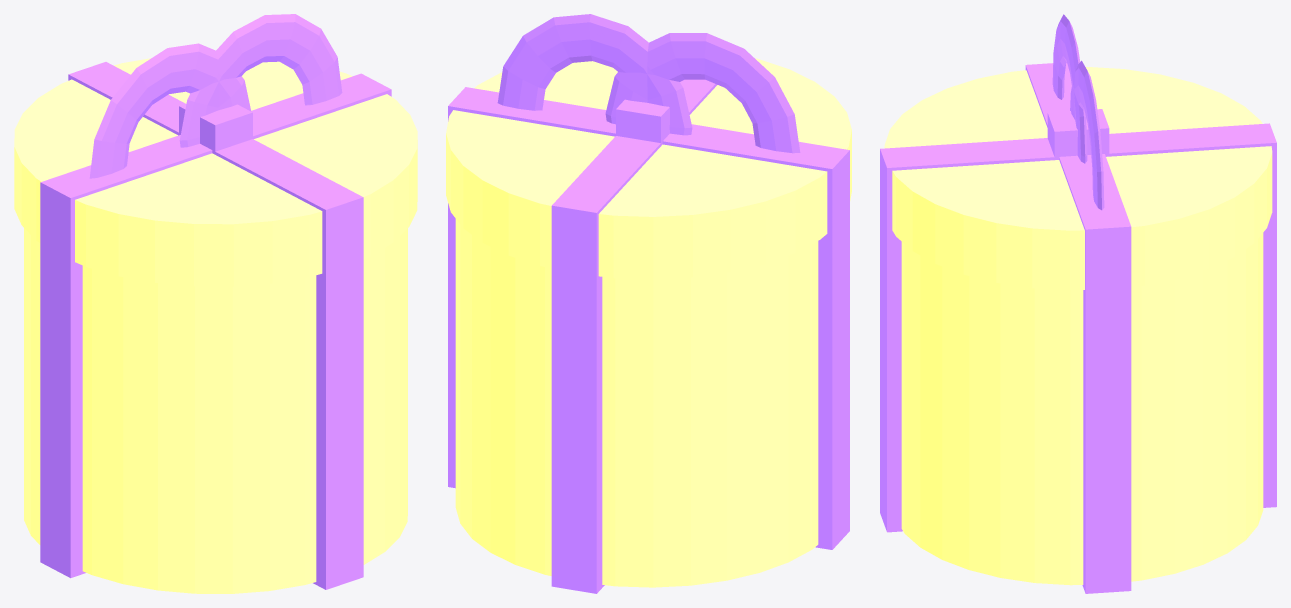
Rendered from Tmpl_Round_Root_229.glb.
3 renders of one model, left to right at view 1: azimuth 30°, elevation 25°; view 2: azimuth 150°, elevation 25°; view 3: azimuth 270°, elevation 25°, orthographic. The views are drawn at different scales.
Visible parts, largest first — view 1: Tmpl_Round_Base.227, Tmpl_Round_Lid.227, Tmpl_Round_Ribbon_Y.227, Tmpl_Round_Ribbon_X.227, Tmpl_Round_BowR.227, Tmpl_Round_BowL.227, Tmpl_Round_BowKnot.227; view 2: Tmpl_Round_Base.227, Tmpl_Round_Lid.227, Tmpl_Round_Ribbon_Y.227, Tmpl_Round_Ribbon_X.227, Tmpl_Round_BowR.227, Tmpl_Round_BowL.227, Tmpl_Round_BowKnot.227; view 3: Tmpl_Round_Base.227, Tmpl_Round_Lid.227, Tmpl_Round_Ribbon_X.227, Tmpl_Round_Ribbon_Y.227, Tmpl_Round_BowL.227, Tmpl_Round_BowR.227, Tmpl_Round_BowKnot.227.
Part boxes in pixels (<box>): Tmpl_Round_Base.227: <box>24,228,407,593</box>; Tmpl_Round_Lid.227: <box>14,58,417,286</box>; Tmpl_Round_Ribbon_Y.227: <box>68,62,363,589</box>; Tmpl_Round_Ribbon_X.227: <box>40,73,391,578</box>; Tmpl_Round_BowR.227: <box>179,14,342,147</box>; Tmpl_Round_BowL.227: <box>89,43,251,178</box>; Tmpl_Round_BowKnot.227: <box>179,103,252,154</box>; Tmpl_Round_Base.227: <box>455,219,818,587</box>; Tmpl_Round_Lid.227: <box>446,58,851,279</box>; Tmpl_Round_Ribbon_Y.227: <box>551,79,717,593</box>; Tmpl_Round_Ribbon_X.227: <box>448,87,849,549</box>; Tmpl_Round_BowR.227: <box>497,14,692,135</box>; Tmpl_Round_BowL.227: <box>605,33,800,153</box>; Tmpl_Round_BowKnot.227: <box>616,99,669,145</box>; Tmpl_Round_Base.227: <box>901,233,1263,585</box>; Tmpl_Round_Lid.227: <box>884,67,1272,290</box>; Tmpl_Round_Ribbon_X.227: <box>1025,63,1131,593</box>; Tmpl_Round_Ribbon_Y.227: <box>880,123,1276,532</box>; Tmpl_Round_BowL.227: <box>1052,14,1087,163</box>; Tmpl_Round_BowR.227: <box>1070,60,1104,210</box>; Tmpl_Round_BowKnot.227: <box>1047,109,1109,159</box>.
Size of the model in its own units: 0.8638 by 1.12 by 0.8638.
